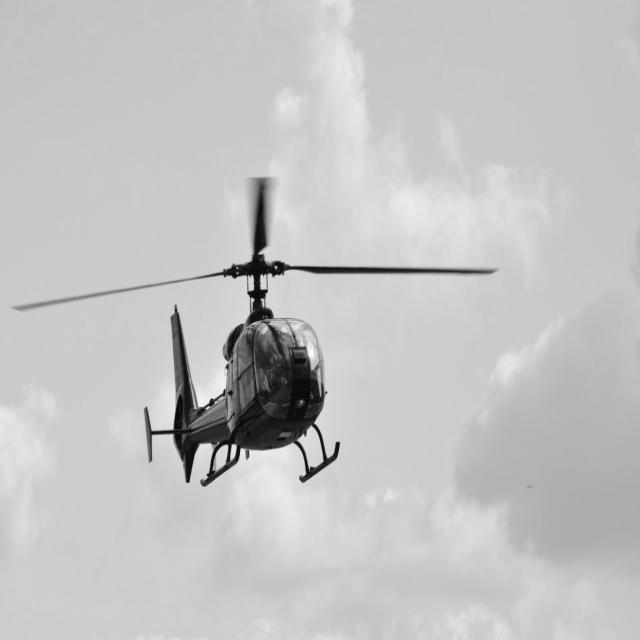helicopter: (32, 181, 496, 482)
